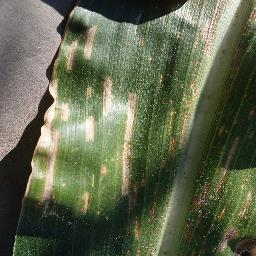Gray_Leaf_Spot: (16, 121, 69, 229), (39, 24, 98, 121), (185, 196, 256, 256), (204, 48, 246, 132), (196, 133, 243, 196), (116, 87, 141, 203), (161, 77, 195, 158), (130, 204, 157, 256), (236, 0, 256, 48), (140, 170, 163, 204), (191, 21, 219, 47), (100, 71, 113, 117), (199, 4, 235, 19), (77, 188, 93, 218), (64, 0, 81, 24), (81, 121, 97, 145), (96, 159, 110, 179), (174, 25, 185, 42), (137, 32, 147, 49)
